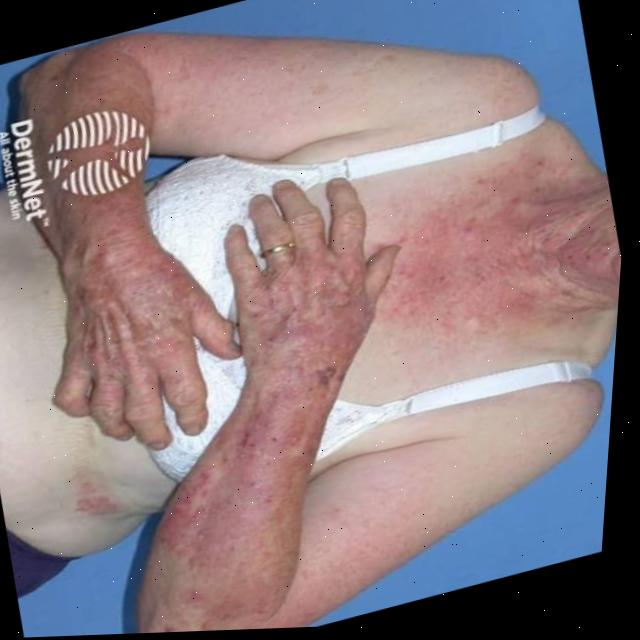Eczema: (151, 253, 429, 621), (375, 168, 579, 350), (24, 186, 160, 389)
